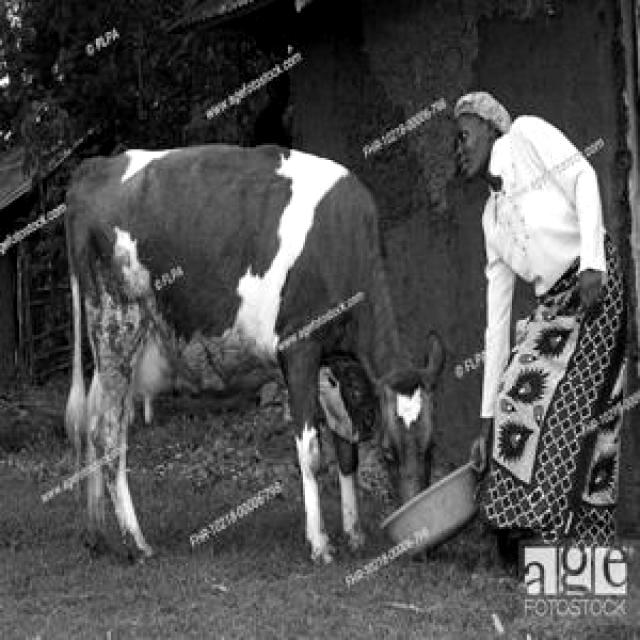COW: (65, 145, 444, 564)
